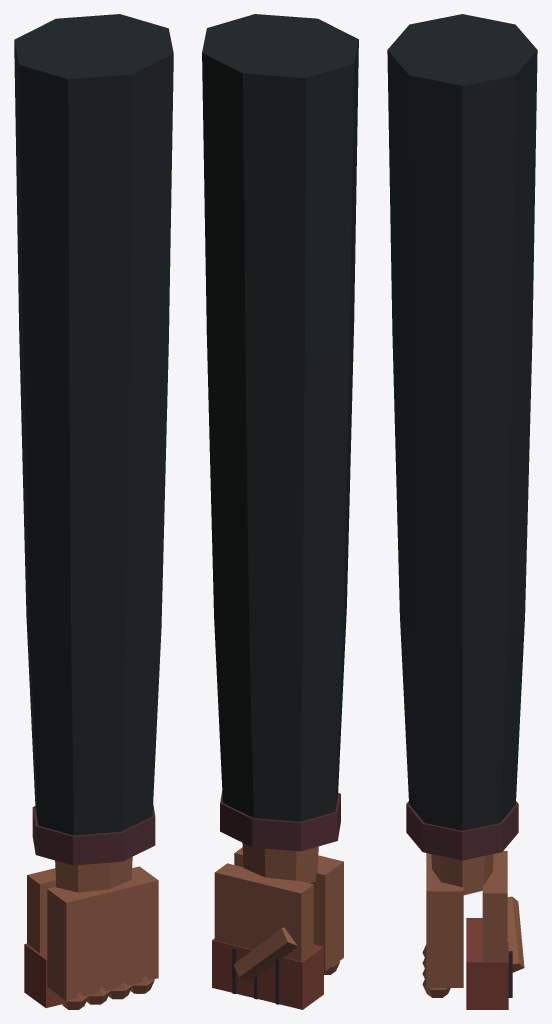
The model's file is pumn_sala.glb.
3 views of the same model, side by side, from view 1: azimuth 30°, elevation 25°; view 2: azimuth 150°, elevation 25°; view 3: azimuth 270°, elevation 25° (orthographic).
Parts seen in each view (by area): view 1: Pumn; view 2: Pumn; view 3: Pumn.
Part boxes in pixels (left/top/right/bottom): Pumn: left=14, top=14, right=173, bottom=1009; Pumn: left=202, top=14, right=358, bottom=1009; Pumn: left=387, top=14, right=537, bottom=1009.
Size of the model in its own units: 0.136 by 0.827 by 0.12.
